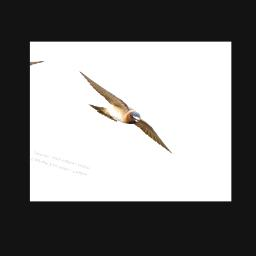Swallow: (59, 68, 192, 154)
